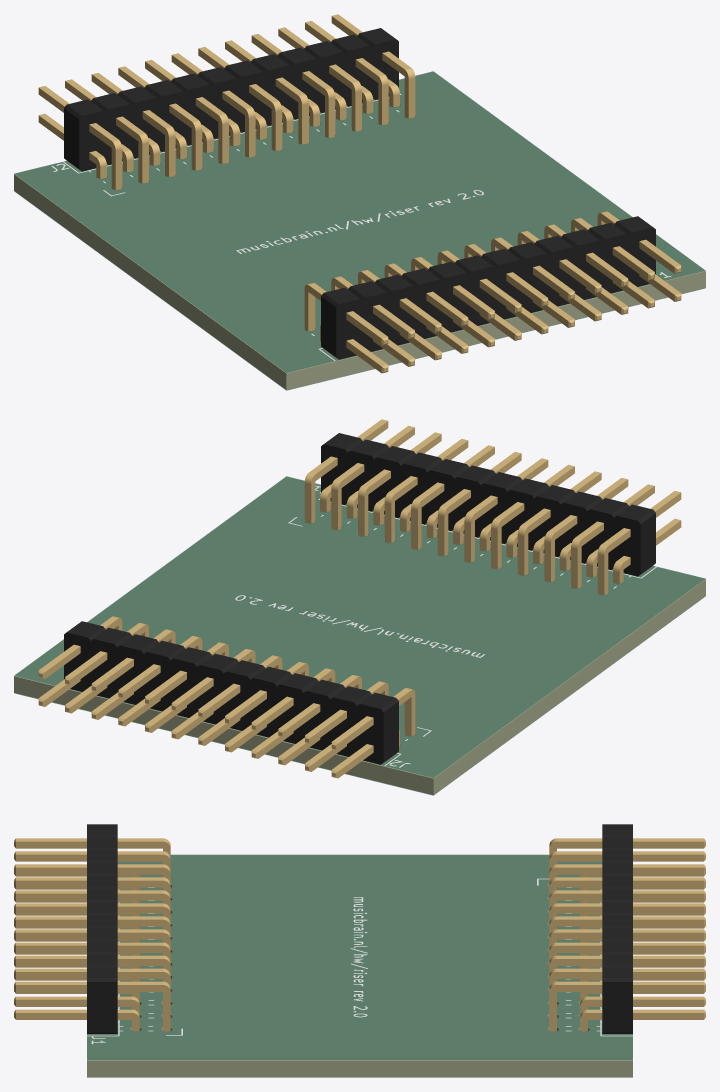
The model's file is musicbrain-riser.glb.
The picture shows the model from 3 angles, top to bottom: view 1: azimuth 30°, elevation 25°; view 2: azimuth 150°, elevation 25°; view 3: azimuth 270°, elevation 25°; orthographic projection.
Visible parts, largest first — view 1: =>[0:1:1:7], =>[0:1:1:5], =>[0:1:1:3] (×2), =>[0:1:1:4], =>[0:1:1:6]; view 2: =>[0:1:1:7], =>[0:1:1:5], =>[0:1:1:3] (×2), =>[0:1:1:4], =>[0:1:1:6]; view 3: =>[0:1:1:7], =>[0:1:1:5], =>[0:1:1:3] (×2), =>[0:1:1:4], =>[0:1:1:6].
Part boxes in pixels (left/top/right/bottom): =>[0:1:1:7]: left=14, top=72, right=705, bottom=389; =>[0:1:1:5]: left=14, top=71, right=705, bottom=372; =>[0:1:1:3] (×2): left=38, top=14, right=681, bottom=373; =>[0:1:1:4]: left=51, top=93, right=671, bottom=360; =>[0:1:1:6]: left=14, top=191, right=705, bottom=390; =>[0:1:1:7]: left=14, top=477, right=705, bottom=794; =>[0:1:1:5]: left=14, top=476, right=705, bottom=777; =>[0:1:1:3] (×2): left=38, top=419, right=681, bottom=778; =>[0:1:1:4]: left=235, top=485, right=657, bottom=767; =>[0:1:1:6]: left=14, top=596, right=705, bottom=795; =>[0:1:1:7]: left=87, top=856, right=632, bottom=1077; =>[0:1:1:5]: left=87, top=854, right=632, bottom=1059; =>[0:1:1:3] (×2): left=14, top=824, right=705, bottom=1033; =>[0:1:1:4]: left=87, top=878, right=632, bottom=1044; =>[0:1:1:6]: left=87, top=1077, right=632, bottom=1077.
Size of the model in its own units: 0.04 by 0.00808 by 0.057.
